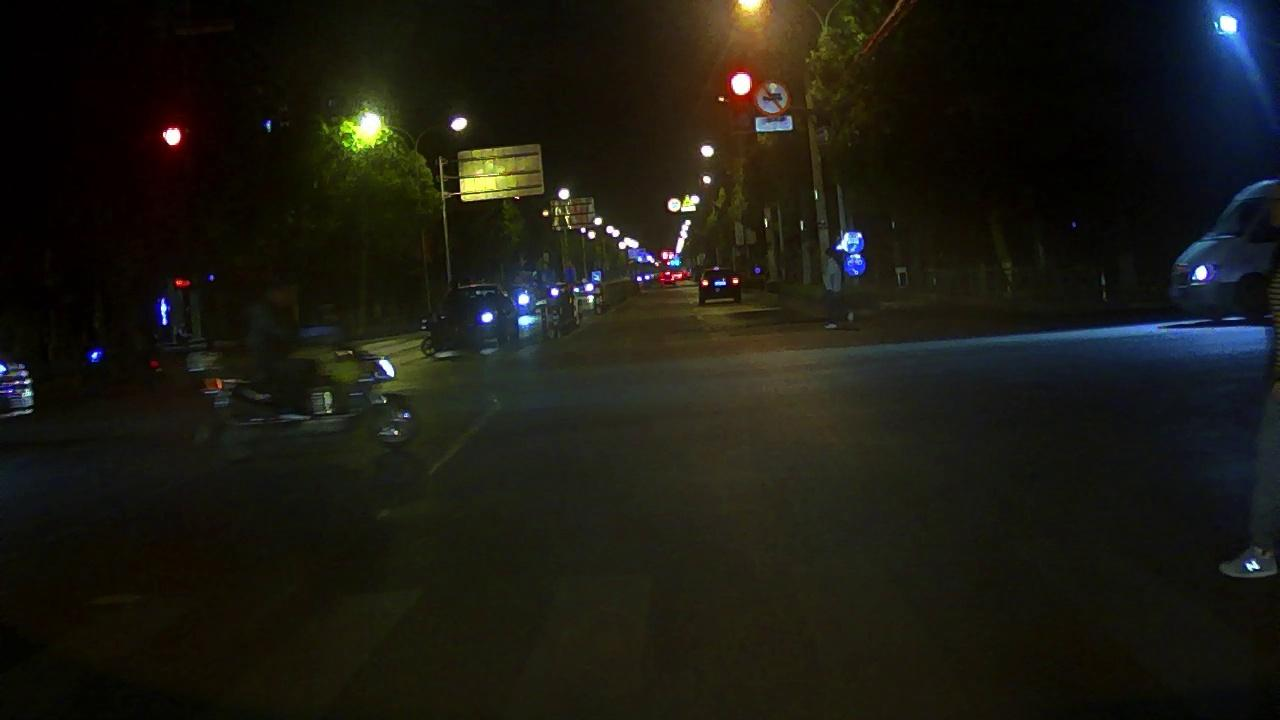traffic_light: (725, 64, 757, 102), (154, 124, 190, 155)
